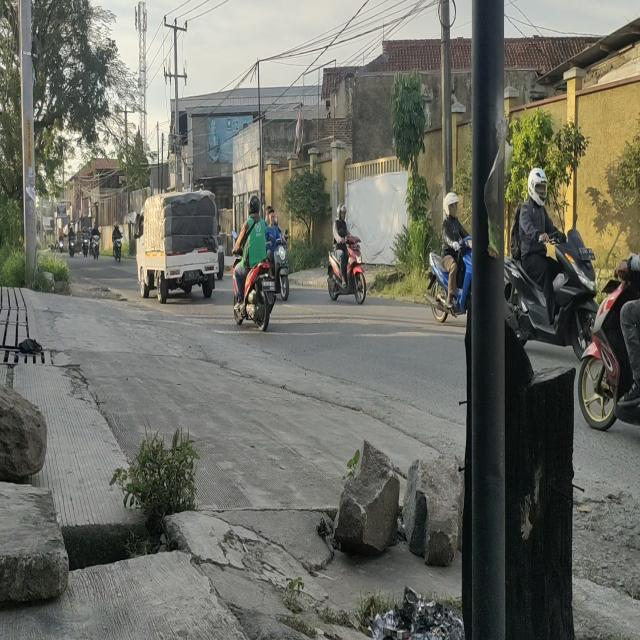helmet: (527, 166, 549, 205), (444, 190, 459, 218), (247, 196, 261, 219), (336, 202, 349, 224)
no-helmet: (265, 206, 272, 220), (269, 210, 275, 223)
